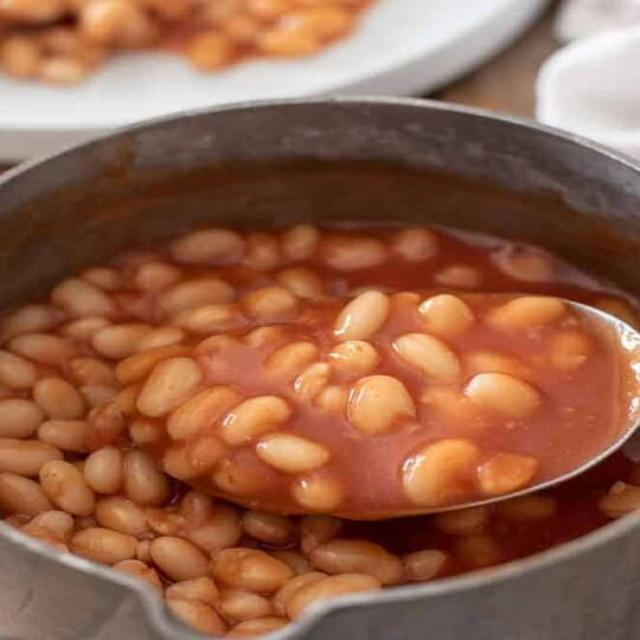beans: (403, 440, 478, 506), (287, 574, 380, 619), (310, 540, 404, 584), (348, 376, 415, 434), (137, 358, 202, 417), (168, 386, 240, 439), (211, 548, 293, 592), (79, 0, 155, 47), (220, 396, 291, 446), (465, 373, 540, 418), (393, 334, 459, 383), (256, 433, 329, 473), (40, 461, 94, 515), (115, 345, 188, 384), (335, 291, 391, 341), (150, 536, 209, 581), (159, 279, 234, 314), (171, 229, 245, 264), (187, 506, 242, 553), (69, 528, 137, 565), (479, 453, 538, 495), (51, 279, 116, 317), (489, 296, 566, 328), (124, 451, 169, 505), (273, 570, 327, 615), (162, 444, 225, 481), (0, 472, 54, 515), (419, 295, 475, 336), (0, 439, 62, 476), (285, 4, 350, 39), (95, 496, 148, 537), (0, 304, 62, 339), (168, 598, 226, 635), (34, 378, 85, 420), (175, 304, 244, 335), (323, 238, 387, 271), (92, 324, 150, 359), (292, 472, 344, 511), (213, 458, 265, 496), (495, 249, 554, 282), (242, 287, 299, 321), (329, 340, 380, 378), (265, 341, 318, 377), (185, 32, 233, 71), (87, 402, 125, 451), (256, 28, 321, 56), (465, 352, 532, 379), (85, 447, 123, 494), (0, 36, 42, 78), (496, 494, 558, 522), (242, 511, 293, 545), (219, 589, 273, 621), (184, 435, 228, 474), (0, 399, 43, 438), (550, 330, 591, 370), (300, 515, 341, 555), (38, 420, 88, 452), (433, 507, 489, 535), (166, 577, 219, 606), (113, 560, 162, 591), (23, 511, 73, 541), (454, 536, 502, 567), (392, 229, 437, 262), (242, 233, 280, 271), (0, 351, 37, 390), (599, 482, 639, 518), (293, 363, 330, 401), (38, 56, 88, 84), (403, 550, 447, 581), (134, 263, 181, 292), (278, 268, 323, 298), (227, 616, 287, 638), (68, 358, 116, 385), (179, 490, 215, 526), (595, 298, 638, 327), (136, 327, 186, 351), (61, 317, 111, 341), (434, 264, 482, 288), (145, 508, 186, 535), (313, 385, 348, 413), (246, 0, 295, 20), (272, 550, 311, 575), (82, 268, 123, 291), (245, 325, 285, 348), (113, 385, 141, 415), (80, 385, 118, 407), (75, 516, 97, 531), (136, 540, 150, 563)
